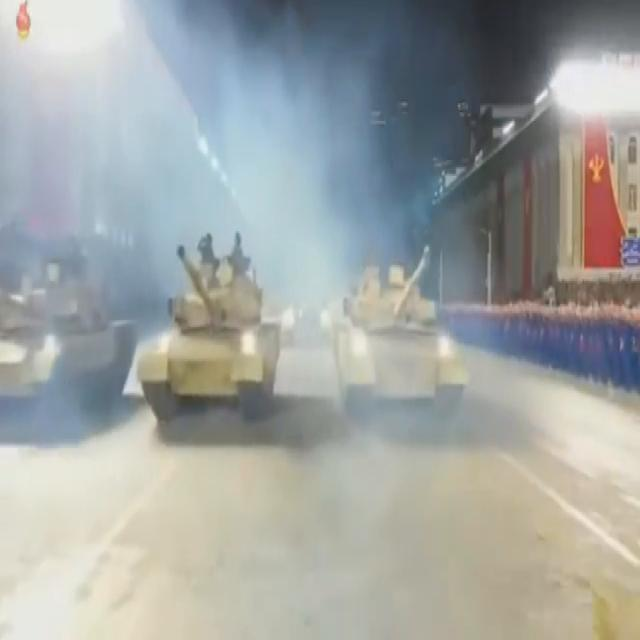north tank: (134, 203, 283, 437), (329, 240, 484, 444)
